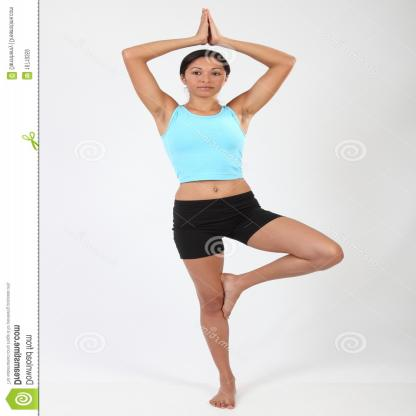tree: (115, 5, 354, 414)
